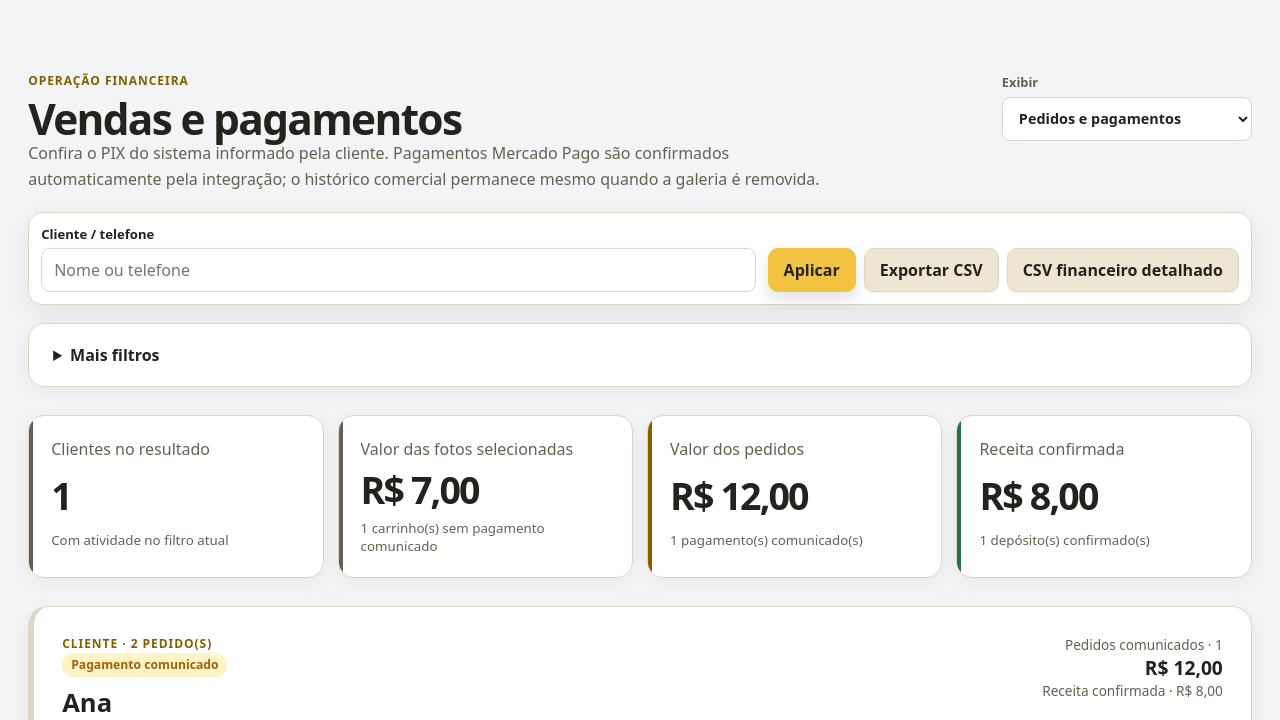
Test: não carrega histórico por padrão e substitui páginas apenas na consulta explícita
Expected: the text "Receita confirmada" is shown, [979,438,1124,460]
Select "Histórico de acervo excluído" in the dropdown labelled "Exibir" at [1127, 118], box [1002,96,1252,140]
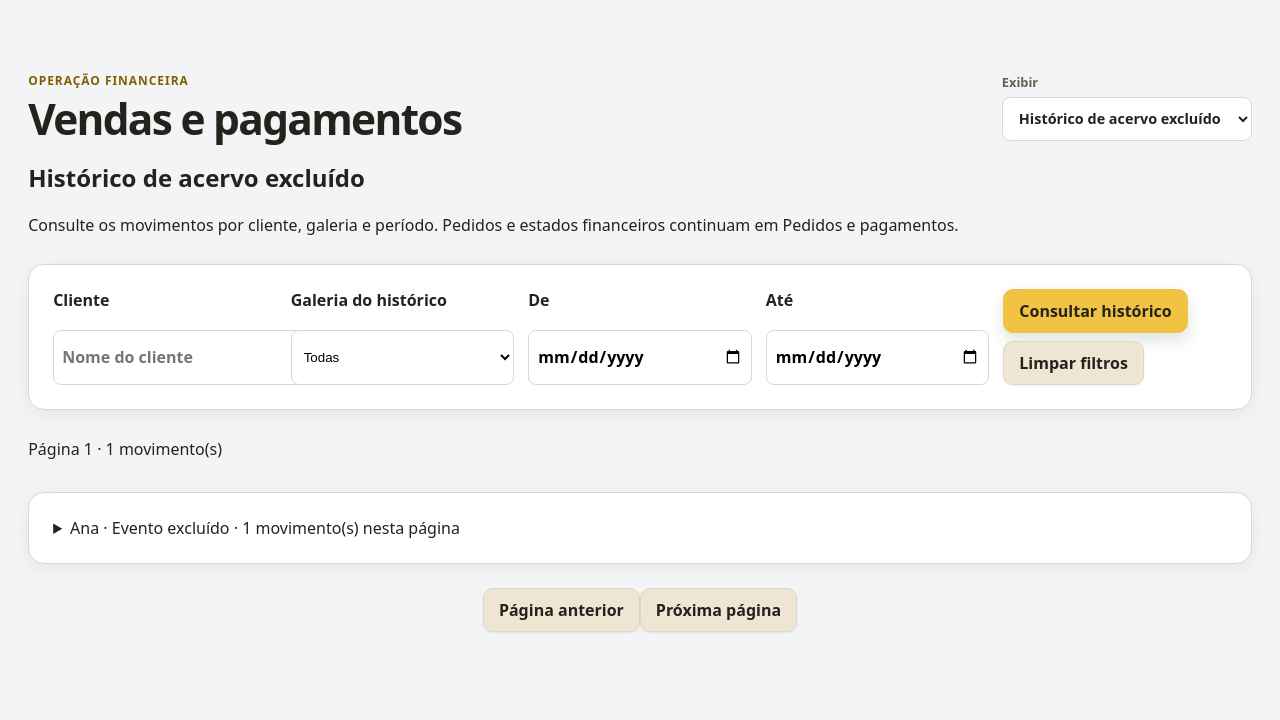
Click the button "Próxima página" at [718, 610], box [640,588,797,632]
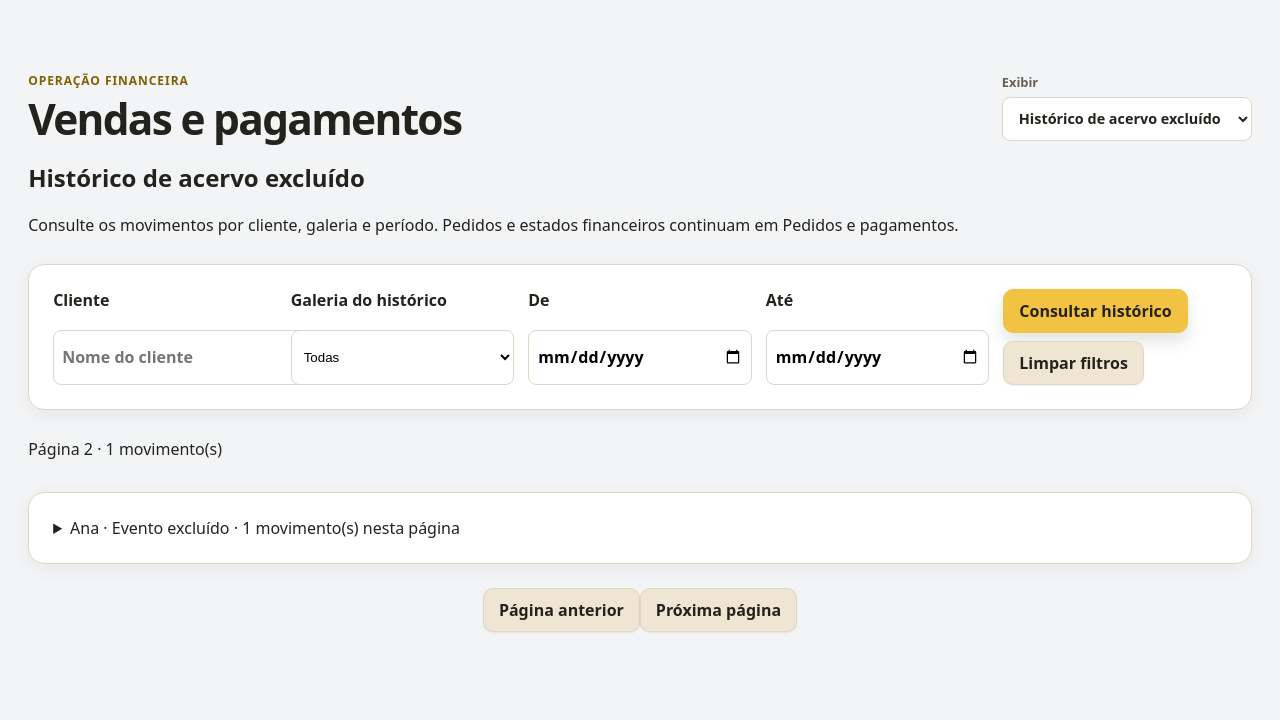
Type "Ana" into the field labelled "Cliente" at [185, 357], box [53,330,316,385]
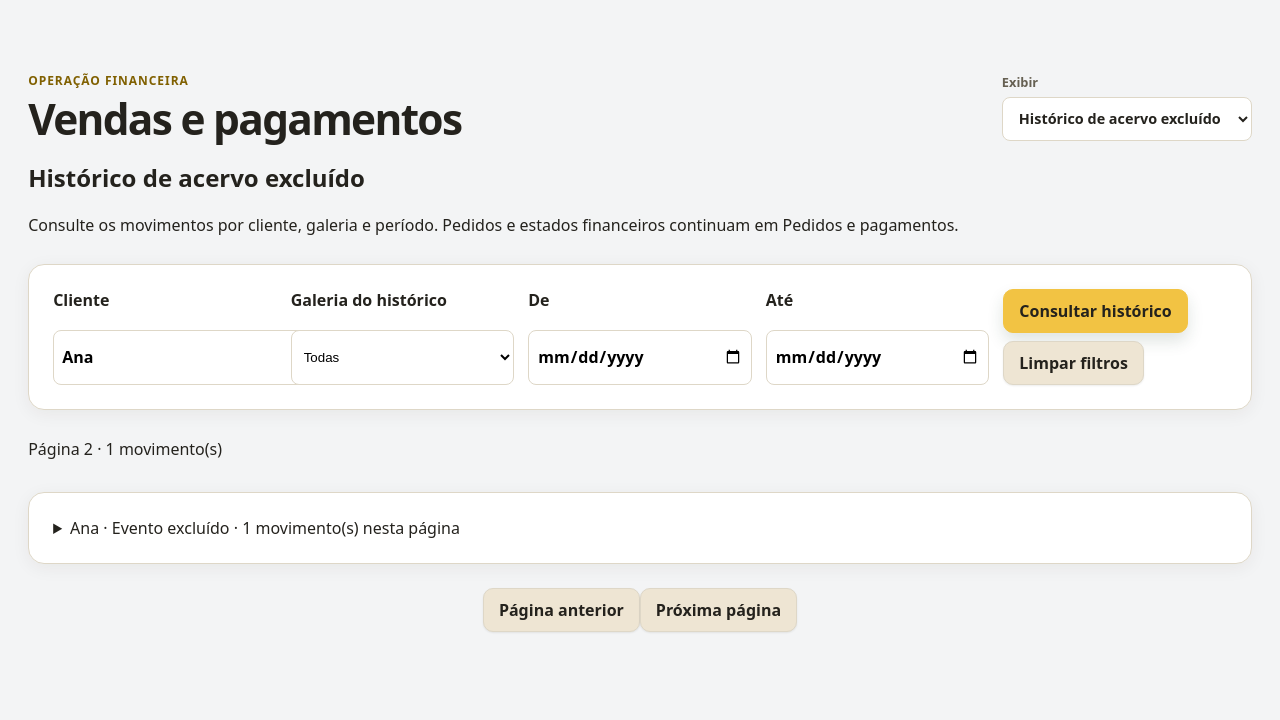
Select "Evento excluído" in the dropdown labelled "Galeria do histórico" at [402, 357], box [291,330,514,385]
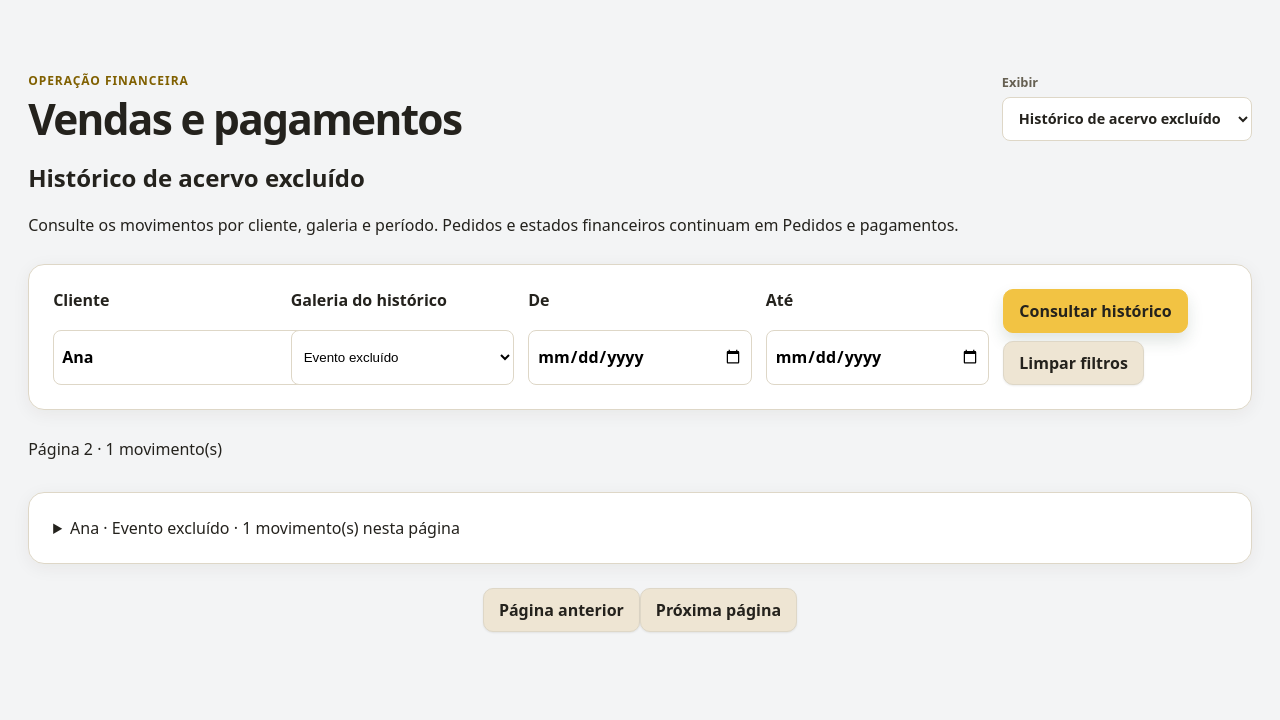
Click the button "Consultar histórico" at [1096, 311], box [1003,289,1188,333]
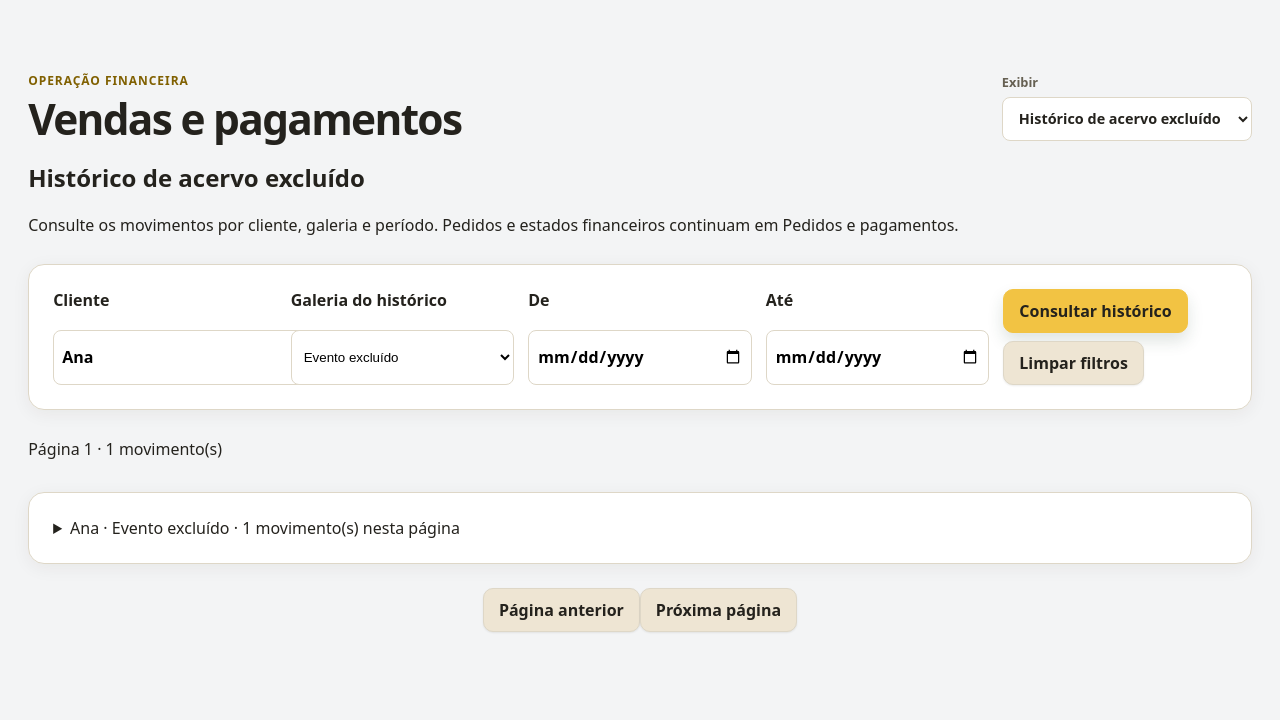
Select "Pedidos e pagamentos" in the dropdown labelled "Exibir" at [1127, 118], box [1002,96,1252,140]
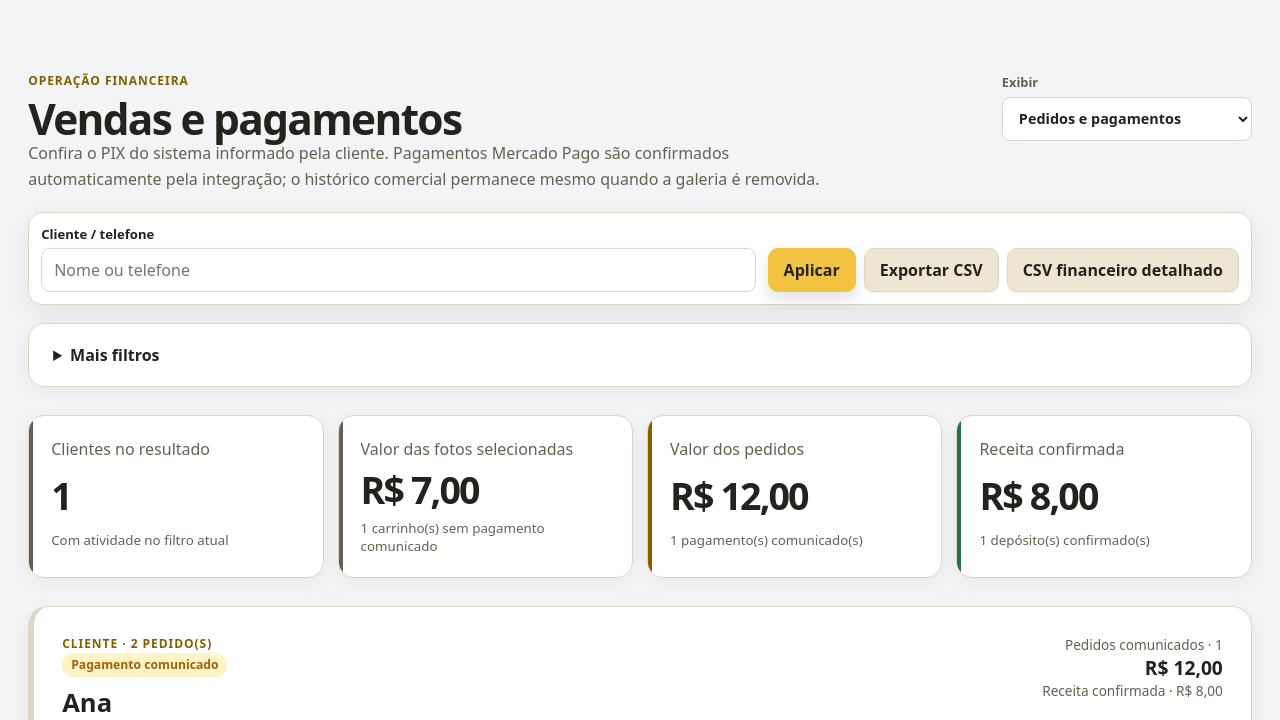
Now the text "Receita confirmada" is shown, box [979,438,1124,460]
